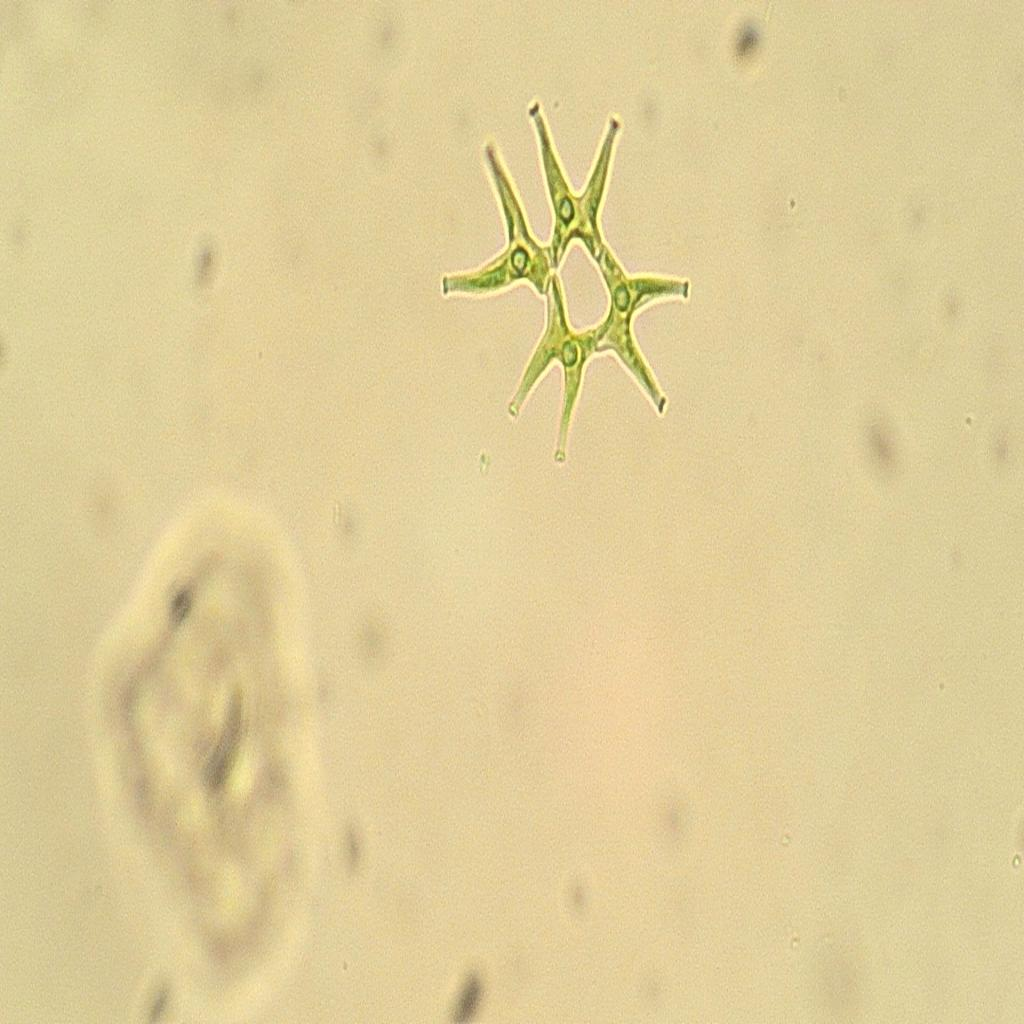Pediastrum_CT: (427, 70, 716, 476)
